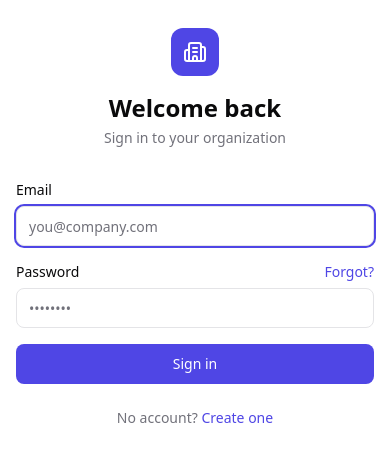
LoginPage › rejects a malformed email client-side
This screenshot has width=390, height=452.
Type "not-an-email" into the field labelled "Email" at (195, 226), box [16,206,374,246]
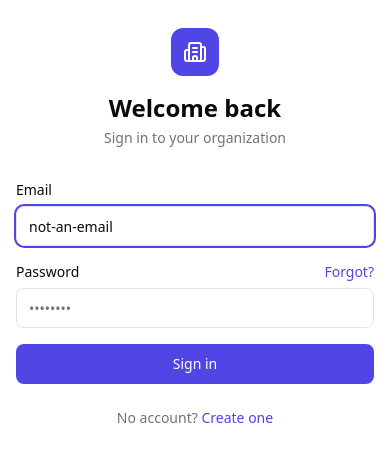
Type "whatever" into the password field labelled "Password" at (195, 308), box [16,288,374,328]
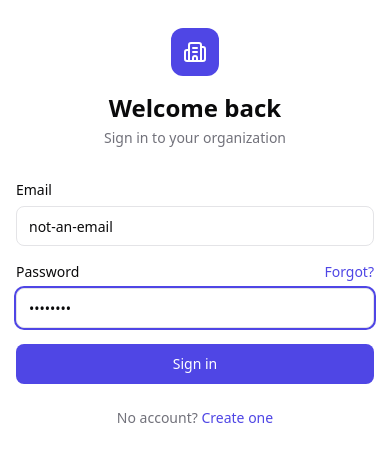
Click the button "Sign in" at (195, 364), box [16,344,374,384]
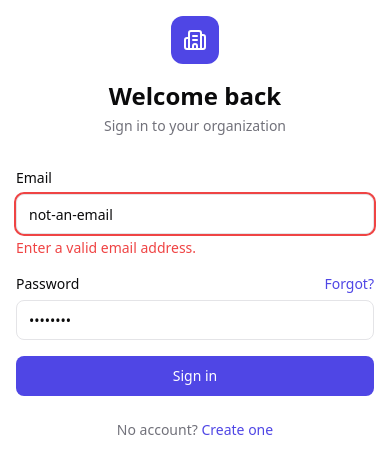
Result: the text "Enter a valid email address." is shown at [16,238,196,257]
